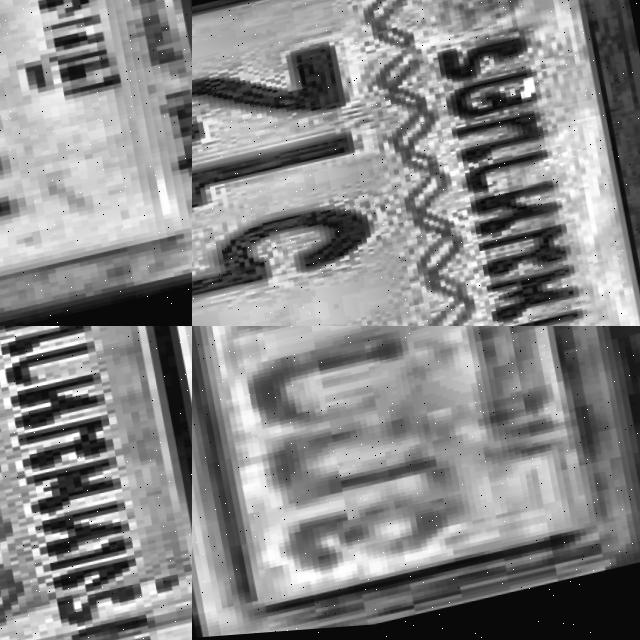license-plate: (192, 0, 640, 326), (192, 326, 640, 640), (0, 0, 192, 326), (0, 326, 192, 640)
